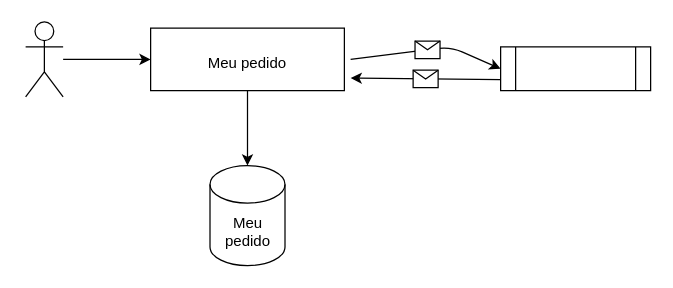
Some shapes in this 673 by 288 pixel diagram are drawn without their labels. The shapes that lost their labels are listed below. From the top down, each one's centre as x and y in pixels, then its label:
At (x=43, y=59): "Cliente".
At (x=575, y=68): "criar-pedido-fila".
